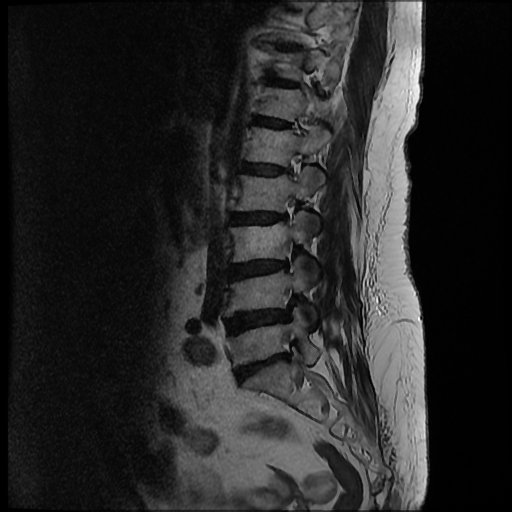RFS0: (274, 144, 311, 187), (274, 185, 307, 233)
